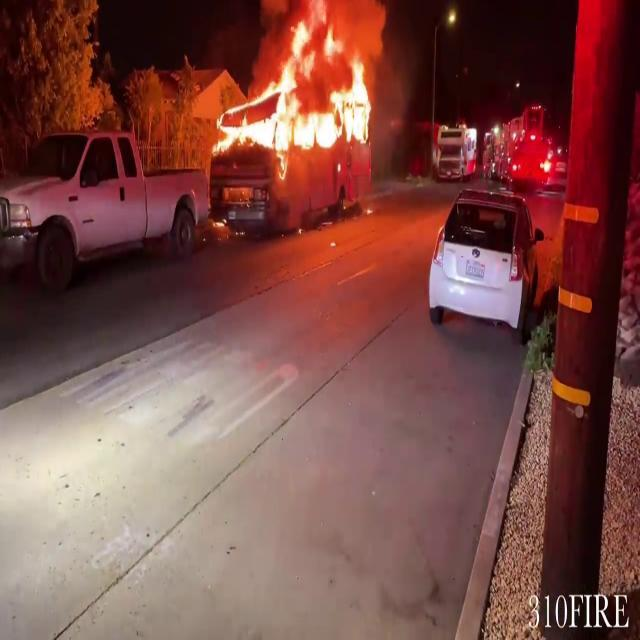Fire: (211, 2, 385, 166)
